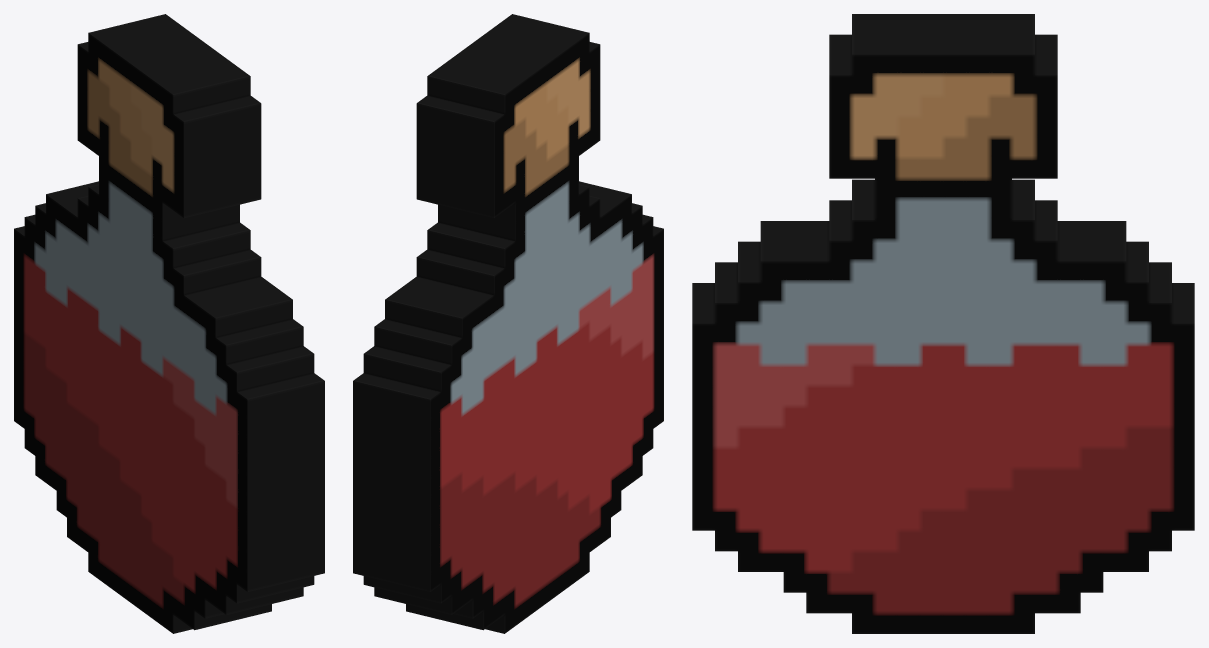
File: Equipment_LargeHealthPotion.fbx
The picture shows the model from 3 angles, left to right: view 1: azimuth 30°, elevation 25°; view 2: azimuth 150°, elevation 25°; view 3: azimuth 270°, elevation 25°; orthographic projection. The views are drawn at different scales.
Visible parts, largest first — view 1: Equipments12; view 2: Equipments12; view 3: Equipments12.
Part boxes in pixels (<box>): Equipments12: <box>14,14,324,633</box>; Equipments12: <box>353,14,663,633</box>; Equipments12: <box>692,14,1194,633</box>.
Bounding box in the file's own units: 0.075 × 0.5 × 0.3929.
Materials: 1 (1 with a texture image).
